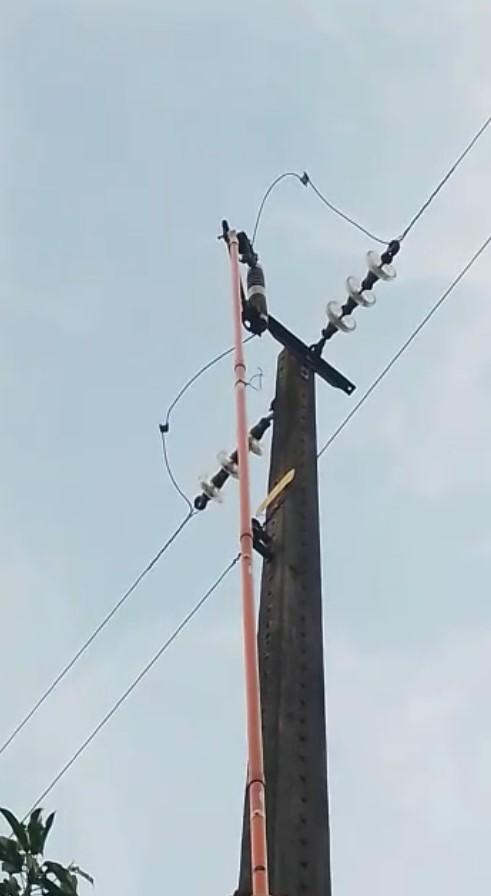Vara_Manobra: (227, 235, 271, 896)
